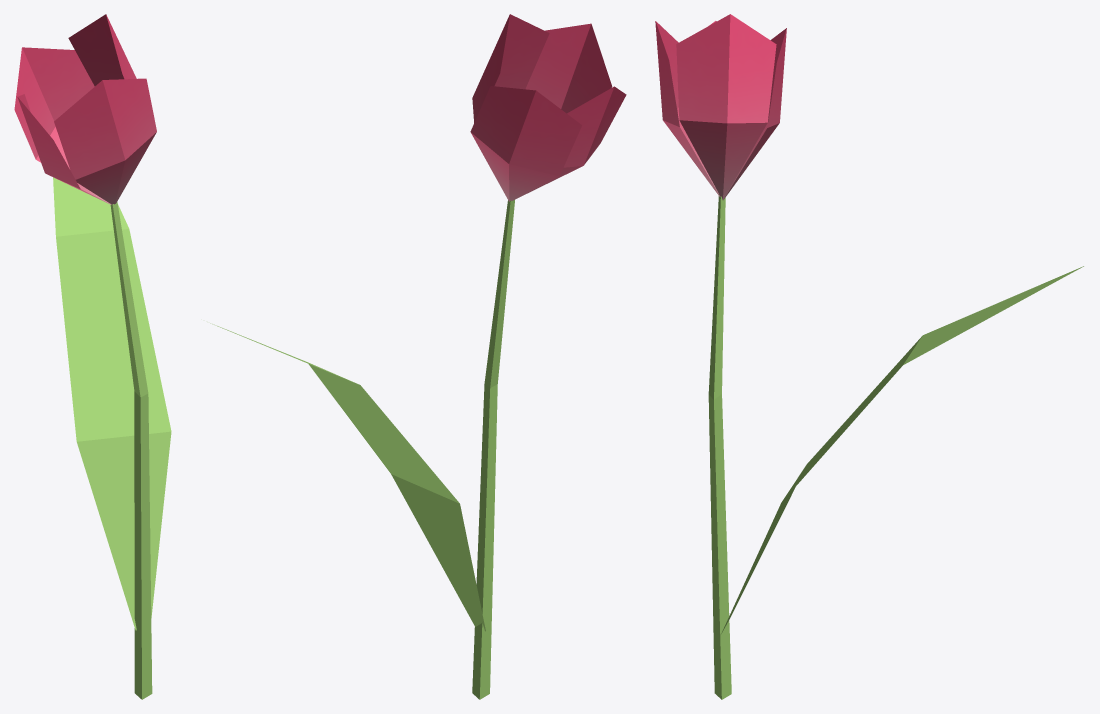
The model's file is Flower_f_TwoS_07.fbx.
3 views of the same model, side by side, from view 1: azimuth 30°, elevation 25°; view 2: azimuth 150°, elevation 25°; view 3: azimuth 270°, elevation 25° (orthographic). The views are drawn at different scales.
Parts seen in each view (by area): view 1: Flower_f_TwoS_07; view 2: Flower_f_TwoS_07; view 3: Flower_f_TwoS_07.
Part boxes in pixels (x1,y1,x2,y2): Flower_f_TwoS_07: (14,14,171,699); Flower_f_TwoS_07: (210,14,626,699); Flower_f_TwoS_07: (655,14,1083,699).
Size of the model in its own units: 0.2154 by 0.6422 by 0.376.
